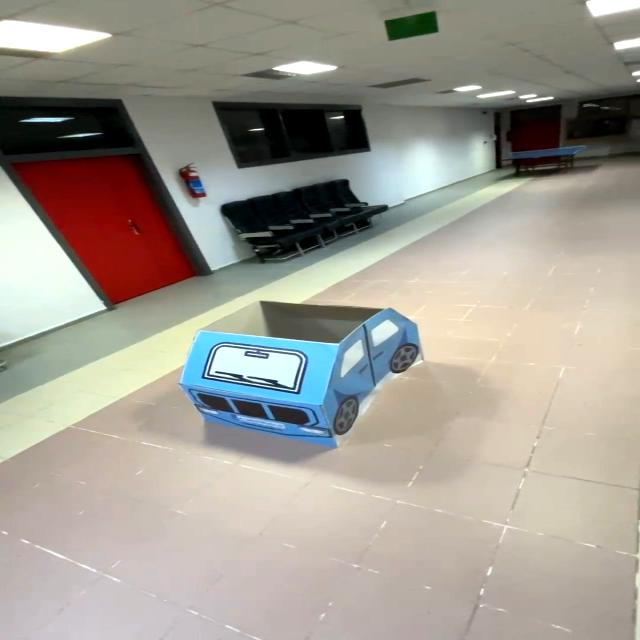blue_car: (150, 285, 453, 453)
